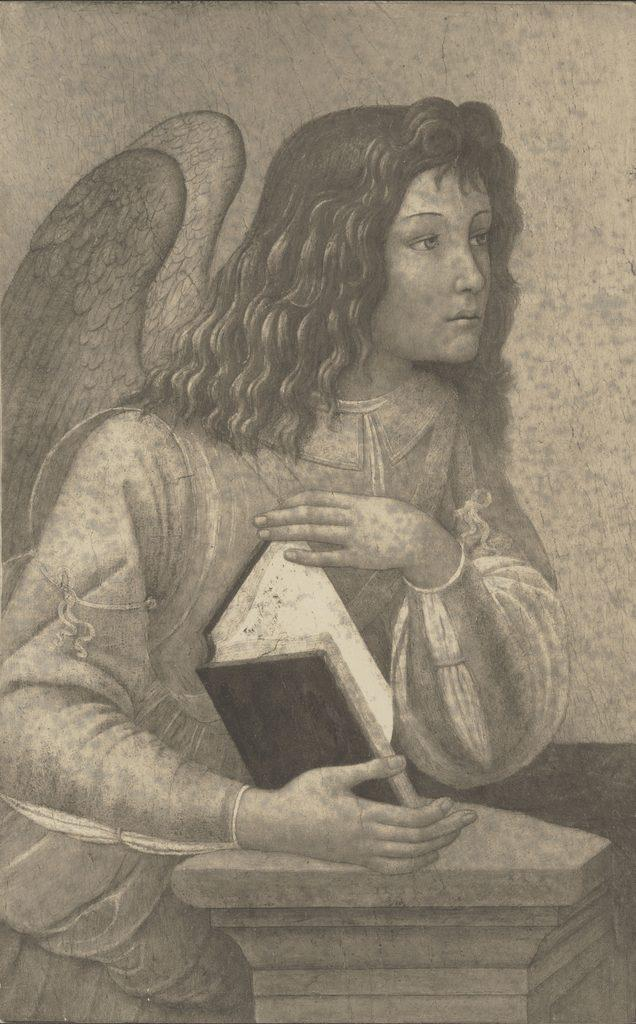angel: (4, 98, 569, 1023)
book: (193, 518, 416, 812)
